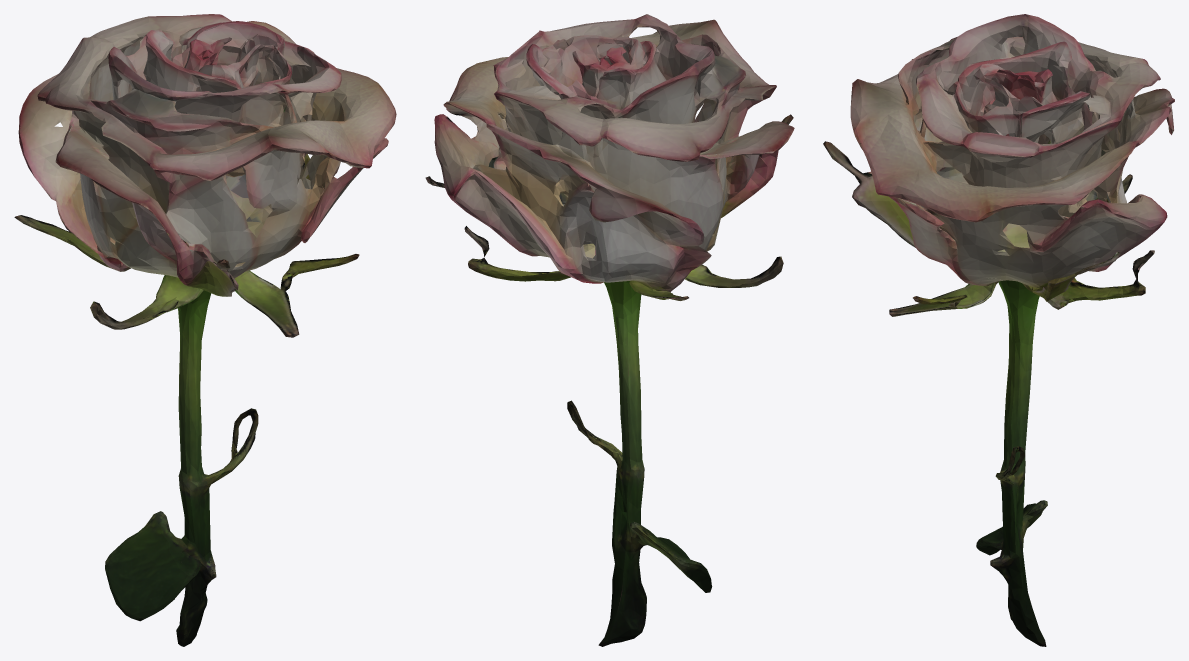
3 views of the same model, side by side, from view 1: azimuth 30°, elevation 25°; view 2: azimuth 150°, elevation 25°; view 3: azimuth 270°, elevation 25° (orthographic). The views are drawn at different scales.
Visible parts, largest first — view 1: world; view 2: world; view 3: world.
Boxes of the visible parts, left/top/right/bottom form: world: left=14, top=14, right=396, bottom=646; world: left=425, top=14, right=794, bottom=646; world: left=823, top=14, right=1174, bottom=646.
Size of the model in its own units: 0.5219 by 0.9397 by 0.5058.
1 material, 1 textured.
